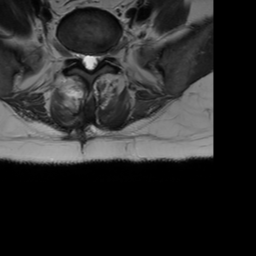CCS_stenosis: (87, 48, 93, 76)
LFS_stenosis: (101, 48, 108, 67)
LLS_normal: (93, 48, 101, 71)
RFS_stenosis: (72, 47, 81, 66)
RLS_normal: (81, 49, 87, 71)
